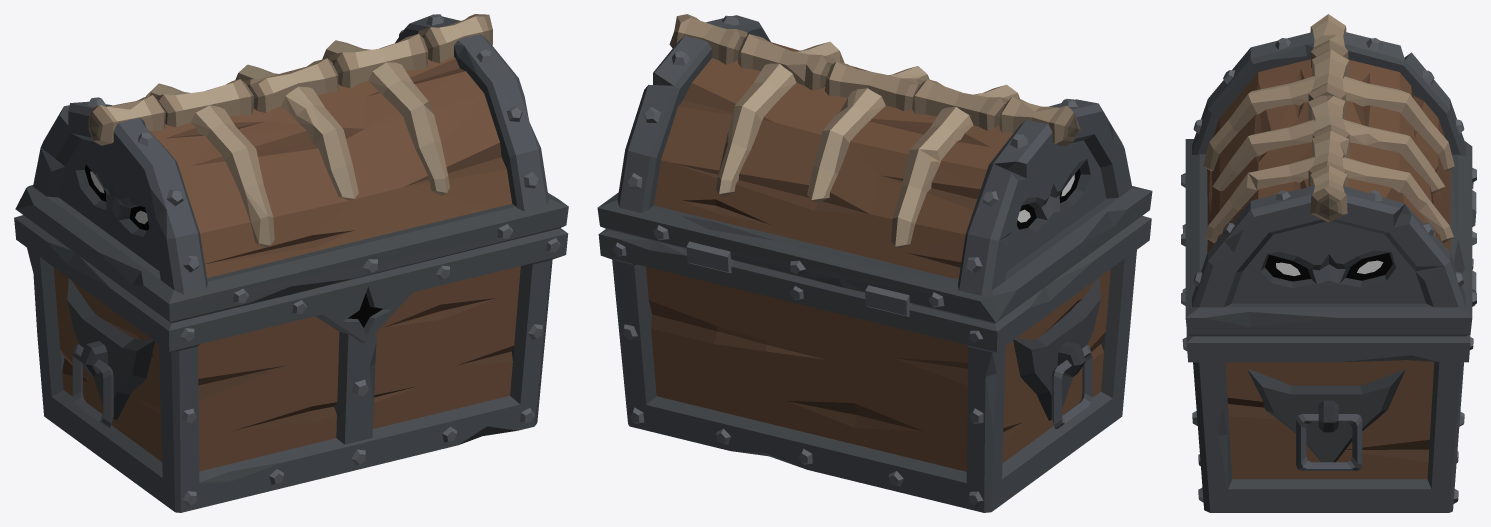
File: SM_Prop_Chest_02.fbx
3 views of the same model, side by side, from view 1: azimuth 30°, elevation 25°; view 2: azimuth 150°, elevation 25°; view 3: azimuth 270°, elevation 25° (orthographic). The views are drawn at different scales.
Visible parts, largest first — view 1: SM_Prop_Chest_02_Lid, SM_Prop_Chest_02; view 2: SM_Prop_Chest_02_Lid, SM_Prop_Chest_02; view 3: SM_Prop_Chest_02_Lid, SM_Prop_Chest_02.
Part boxes in pixels (box(x1,y1,x2,y2)): SM_Prop_Chest_02_Lid: box(15, 14, 568, 322); SM_Prop_Chest_02: box(14, 215, 568, 512); SM_Prop_Chest_02_Lid: box(597, 14, 1152, 323); SM_Prop_Chest_02: box(598, 216, 1151, 512); SM_Prop_Chest_02_Lid: box(1181, 14, 1476, 336); SM_Prop_Chest_02: box(1182, 182, 1476, 512).
Size of the model in its own units: 114 by 94.47 by 76.32.
3 materials, 2 textured.
